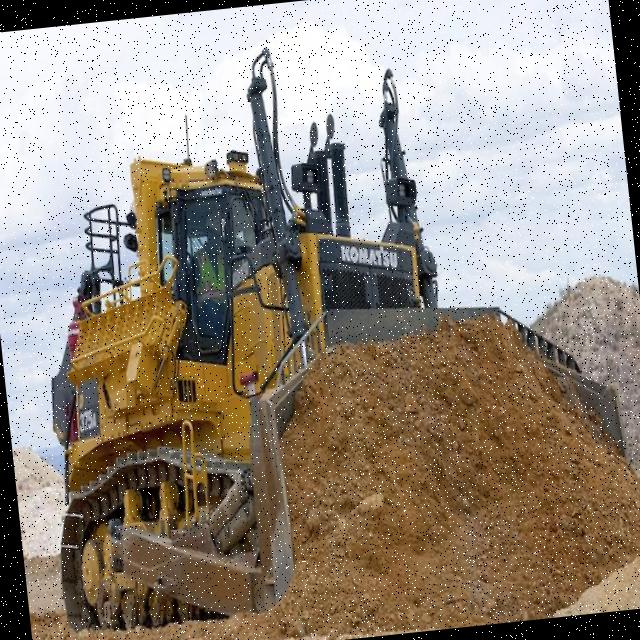Bulldozer: (2, 14, 640, 640)
